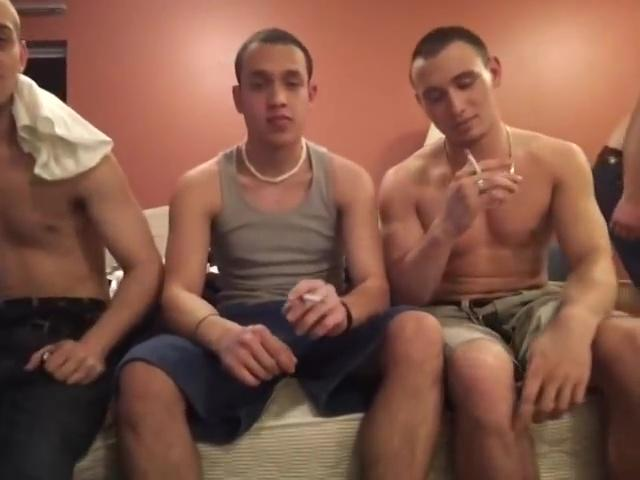cigarette: (462, 146, 483, 181), (298, 293, 332, 305)
